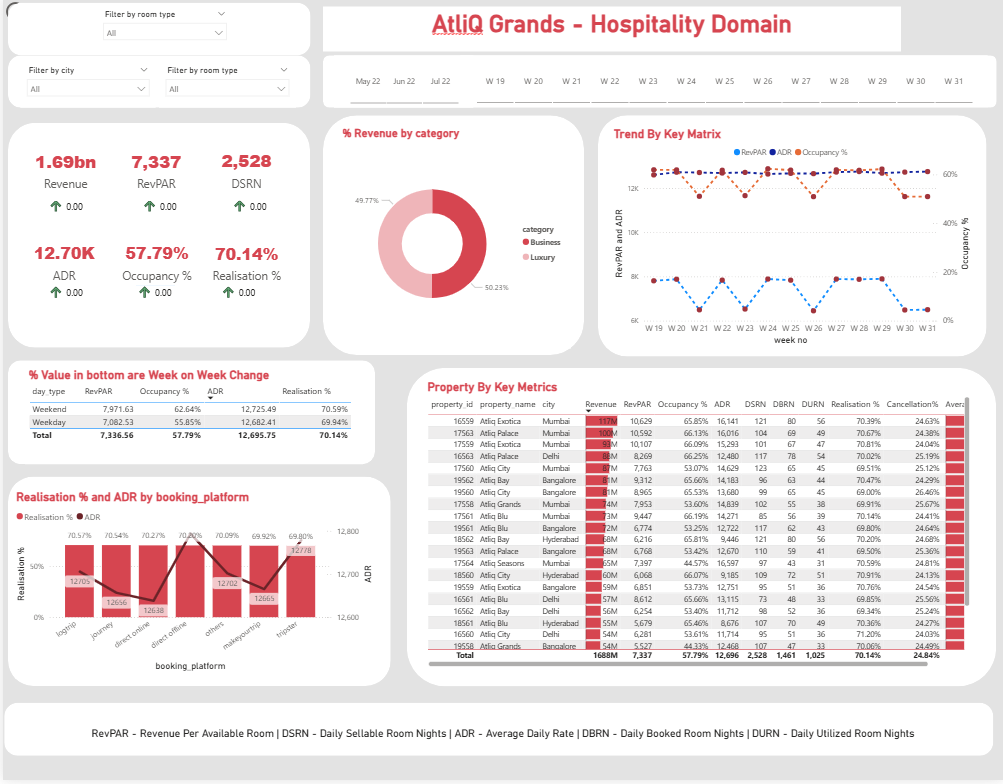

Layout of this report page (visuals, bound fields, positions):
{"tool":"powerbi","page":{"name":"dashboard","canvas":[1600,1250],"ordinal":0},"visuals":[{"type":"shape","box":[646.7,590,943.3,510],"z":0},{"type":"shape","box":[7.8,763.8,612.6,335.4],"z":1000},{"type":"shape","box":[7.8,577.7,587.4,166.7],"z":2000},{"type":"shape","box":[952.2,186.1,621.9,386.2],"z":3000},{"type":"shape","box":[511.8,186,418,383.8],"z":4000},{"type":"shape","box":[8.3,198.3,483.3,360],"z":5000},{"type":"shape","box":[512,90,1078,84],"z":6000},{"type":"shape","box":[8,90,484,84],"z":7000},{"type":"tableEx","fields":{"Values":["key_measure.Revenue WOW Change %"]},"box":[358,286,96,68],"z":8000},{"type":"tableEx","title":"Property By Key Metrics","fields":{"Values":["dim_hotels.property_id","dim_hotels.property_name","dim_hotels.city","key_measure.Revenue","key_measure.RevPAR","key_measure.Occupancy %","key_measure.ADR","key_measure.DSRN","key_measure.DBRN","key_measure.DURN","key_measure.Realisation %","key_measure.Cancellation%"]},"box":[674.6,610.7,878.2,463.3],"z":9000},{"type":"slicer","fields":{"Values":["dim_hotels.city"]},"box":[28,102,216,72],"z":10000},{"type":"slicer","fields":{"Values":["dim_rooms.room_class"]},"box":[250,102,218,72],"z":11000},{"type":"slicer","fields":{"Values":["dim_date.mmm yy"]},"box":[530,90,222,84],"z":12000},{"type":"slicer","fields":{"Values":["dim_date.week no"]},"box":[731.7,90,843.3,83.3],"z":13000},{"type":"donutChart","title":"% Revenue by category","fields":{"Category":["dim_hotels.category"],"Y":["key_measure.Occupancy %"]},"box":[537.4,203,370.2,354.8],"z":14000},{"type":"tableEx","fields":{"Values":["key_measure.Revenue WOW Change %"]},"box":[213.2,286.6,90.4,68.2],"z":15000},{"type":"tableEx","fields":{"Values":["key_measure.Revenue WOW Change %"]},"box":[206.4,424.8,97.2,68],"z":16000},{"type":"tableEx","fields":{"Values":["key_measure.Revenue WOW Change %"]},"box":[339.5,424.8,102.4,68],"z":17000},{"type":"tableEx","fields":{"Values":["key_measure.Revenue WOW Change %"]},"box":[64,286,104,68],"z":18000},{"type":"card","fields":{"Values":["key_measure.Revenue"]},"box":[27.3,223.5,145,98.9],"z":19000},{"type":"card","fields":{"Values":["key_measure.RevPAR"]},"box":[177.4,223.5,134.8,98.9],"z":20000},{"type":"card","fields":{"Values":["key_measure.DSRN"]},"box":[312.2,221.8,155.2,100.7],"z":21000},{"type":"lineChart","title":"Trend By Key Matrix","fields":{"Category":["dim_date.mmm yy.Variation.Date Hierarchy.Month","dim_date.week no"],"Y":["key_measure.RevPAR","key_measure.ADR"],"Y2":["key_measure.Occupancy %"]},"box":[972.4,203,580,354.8],"z":22000},{"type":"card","fields":{"Values":["key_measure.Occupancy %"]},"box":[179.1,382.1,133.1,76.8],"z":23000},{"type":"card","fields":{"Values":["key_measure.Realisation %"]},"box":[325.8,382.1,127.9,78.5],"z":24000},{"type":"lineStackedColumnComboChart","fields":{"Category":["fact_bookings.booking_platform"],"Y":["key_measure.Realisation %"],"Y2":["key_measure.ADR"]},"box":[16,786,580,294],"z":25000},{"type":"tableEx","title":"%  Value in bottom are Week on Week Change","fields":{"Values":["dim_date.day_type","key_measure.RevPAR","key_measure.Occupancy %","key_measure.ADR","key_measure.Realisation %"]},"box":[36,590,540,154],"z":26000},{"type":"actionButton","box":[0,0,100,40],"z":27000},{"type":"tableEx","fields":{"Values":["key_measure.Revenue WOW Change %"]},"box":[63.1,424.8,104.1,68],"z":28000},{"type":"card","fields":{"Values":["key_measure.ADR"]},"box":[27.3,380.4,139.9,80.2],"z":29000},{"type":"shape","box":[2.5,1125,1582.5,85],"z":30000},{"type":"textbox","box":[96,1142,1408,50],"z":31000},{"type":"shape","box":[8,6,484,84],"z":32000},{"type":"slicer","fields":{"Values":["dim_rooms.room_class"]},"box":[150,12,218,72],"z":33000},{"type":"textbox","box":[511.8,11.6,924.7,71.7],"z":33001}]}

Visuals, with their boxes in screenshot pixels (x1, y1, x2, y2), scaled from the page's 1600x1250 canvas onto the 1003x784 screenshot:
shape: {"x1": 405, "y1": 370, "x2": 997, "y2": 690}
shape: {"x1": 5, "y1": 479, "x2": 389, "y2": 689}
shape: {"x1": 5, "y1": 362, "x2": 373, "y2": 467}
shape: {"x1": 597, "y1": 117, "x2": 987, "y2": 359}
shape: {"x1": 321, "y1": 117, "x2": 583, "y2": 357}
shape: {"x1": 5, "y1": 124, "x2": 308, "y2": 350}
shape: {"x1": 321, "y1": 56, "x2": 997, "y2": 109}
shape: {"x1": 5, "y1": 56, "x2": 308, "y2": 109}
tableEx - key_measure.Revenue WOW Change %: {"x1": 224, "y1": 179, "x2": 285, "y2": 222}
"Property By Key Metrics" tableEx: {"x1": 423, "y1": 383, "x2": 973, "y2": 674}
slicer - dim_hotels.city: {"x1": 18, "y1": 64, "x2": 153, "y2": 109}
slicer - dim_rooms.room_class: {"x1": 157, "y1": 64, "x2": 293, "y2": 109}
slicer - dim_date.mmm yy: {"x1": 332, "y1": 56, "x2": 471, "y2": 109}
slicer - dim_date.week no: {"x1": 459, "y1": 56, "x2": 987, "y2": 109}
"% Revenue by category" donutChart: {"x1": 337, "y1": 127, "x2": 569, "y2": 350}
tableEx - key_measure.Revenue WOW Change %: {"x1": 134, "y1": 180, "x2": 190, "y2": 223}
tableEx - key_measure.Revenue WOW Change %: {"x1": 129, "y1": 266, "x2": 190, "y2": 309}
tableEx - key_measure.Revenue WOW Change %: {"x1": 213, "y1": 266, "x2": 277, "y2": 309}
tableEx - key_measure.Revenue WOW Change %: {"x1": 40, "y1": 179, "x2": 105, "y2": 222}
card - key_measure.Revenue: {"x1": 17, "y1": 140, "x2": 108, "y2": 202}
card - key_measure.RevPAR: {"x1": 111, "y1": 140, "x2": 196, "y2": 202}
card - key_measure.DSRN: {"x1": 196, "y1": 139, "x2": 293, "y2": 202}
"Trend By Key Matrix" lineChart: {"x1": 610, "y1": 127, "x2": 973, "y2": 350}
card - key_measure.Occupancy %: {"x1": 112, "y1": 240, "x2": 196, "y2": 288}
card - key_measure.Realisation %: {"x1": 204, "y1": 240, "x2": 284, "y2": 289}
lineStackedColumnComboChart - fact_bookings.booking_platform x key_measure.Realisation %: {"x1": 10, "y1": 493, "x2": 374, "y2": 677}
"%  Value in bottom are Week on Week Change" tableEx: {"x1": 23, "y1": 370, "x2": 361, "y2": 467}
actionButton: {"x1": 0, "y1": 0, "x2": 63, "y2": 25}
tableEx - key_measure.Revenue WOW Change %: {"x1": 40, "y1": 266, "x2": 105, "y2": 309}
card - key_measure.ADR: {"x1": 17, "y1": 239, "x2": 105, "y2": 289}
shape: {"x1": 2, "y1": 706, "x2": 994, "y2": 759}
textbox: {"x1": 60, "y1": 716, "x2": 943, "y2": 748}
shape: {"x1": 5, "y1": 4, "x2": 308, "y2": 56}
slicer - dim_rooms.room_class: {"x1": 94, "y1": 8, "x2": 231, "y2": 53}
textbox: {"x1": 321, "y1": 7, "x2": 901, "y2": 52}
